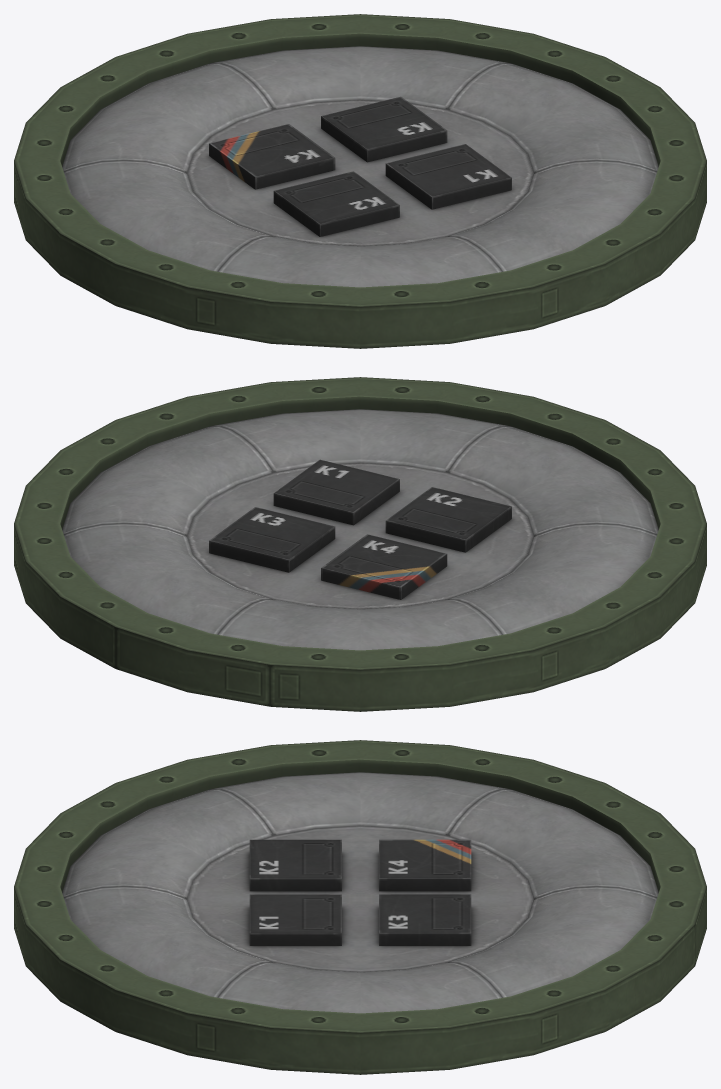
Rendered from sargas_control_s1p5_1.obj.
The picture shows the model from 3 angles, top to bottom: view 1: azimuth 30°, elevation 25°; view 2: azimuth 150°, elevation 25°; view 3: azimuth 270°, elevation 25°; orthographic projection.
Visible parts, largest first — view 1: 1; view 2: 1; view 3: 1.
Part boxes in pixels (x1,y1,x2,y2): 1: (14,14,706,348); 1: (14,377,706,711); 1: (14,740,706,1074).
Bounding box in the file's own units: 1.88 × 0.125 × 1.88.
Materials: 1 (1 with a texture image).
